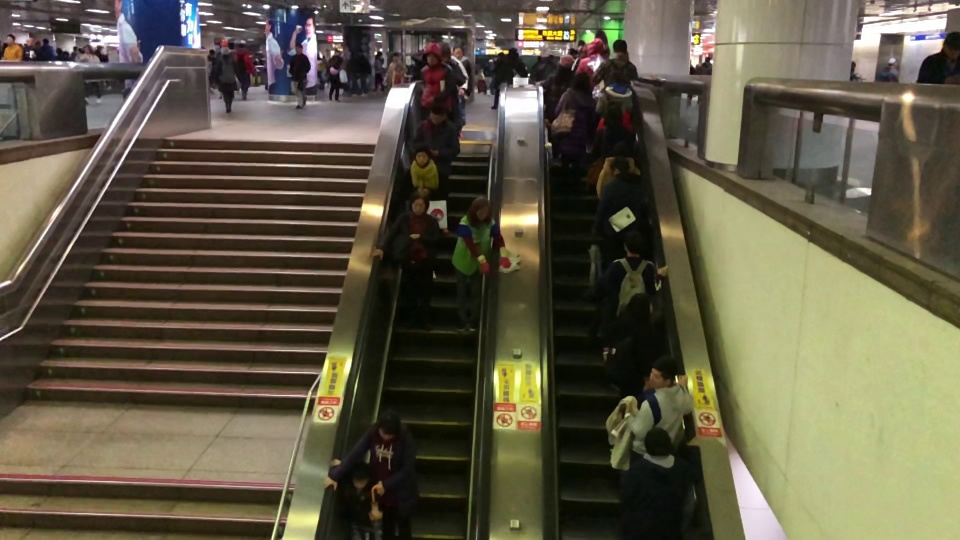person_head: (648, 354, 678, 390), (643, 426, 673, 458), (377, 408, 400, 439), (628, 291, 653, 316), (408, 189, 429, 214), (351, 461, 369, 489), (942, 31, 960, 58), (623, 231, 642, 255), (603, 105, 623, 127), (473, 196, 491, 219), (413, 143, 430, 166), (572, 71, 591, 91), (427, 103, 446, 123), (424, 43, 441, 65), (586, 37, 605, 56), (610, 157, 630, 174), (611, 141, 628, 157), (607, 70, 625, 85), (559, 54, 575, 70), (612, 38, 628, 53), (440, 43, 452, 59), (452, 46, 464, 58), (391, 51, 403, 62), (6, 32, 16, 45), (887, 57, 899, 67), (294, 42, 303, 55), (850, 59, 857, 71), (84, 44, 92, 54), (507, 47, 517, 54), (220, 39, 228, 47), (239, 43, 247, 51), (42, 38, 48, 44), (333, 49, 339, 55), (704, 56, 711, 61)
person_vbox: (321, 408, 421, 540), (369, 189, 441, 331), (620, 426, 702, 540), (451, 195, 513, 333), (623, 354, 693, 456), (604, 291, 666, 391), (416, 103, 461, 233), (402, 143, 445, 278), (603, 231, 669, 318), (552, 71, 595, 196), (591, 157, 646, 237), (330, 458, 369, 540), (596, 141, 641, 199), (541, 54, 577, 124), (419, 43, 455, 113), (915, 30, 960, 85), (593, 38, 638, 88), (594, 105, 633, 159), (452, 46, 472, 140), (594, 69, 633, 115), (215, 38, 238, 115), (288, 42, 311, 110), (79, 43, 103, 106), (577, 37, 606, 88), (233, 42, 256, 100), (326, 48, 343, 101), (501, 47, 526, 82), (384, 51, 406, 88), (875, 58, 900, 82), (3, 31, 23, 60), (37, 37, 57, 60), (686, 63, 697, 103), (849, 59, 864, 80), (700, 55, 712, 75)
